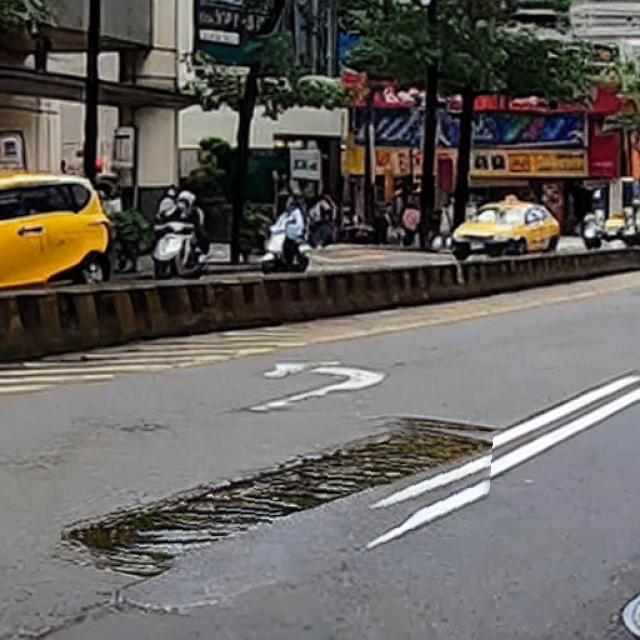puddle: (64, 411, 492, 582)
